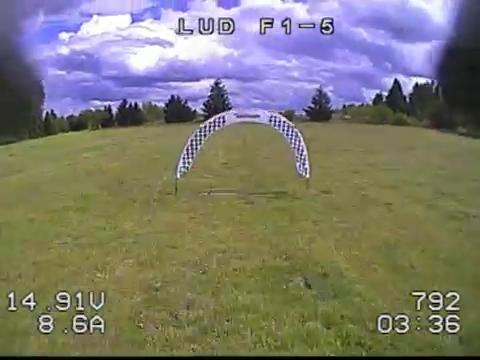gate: (175, 108, 311, 182)
